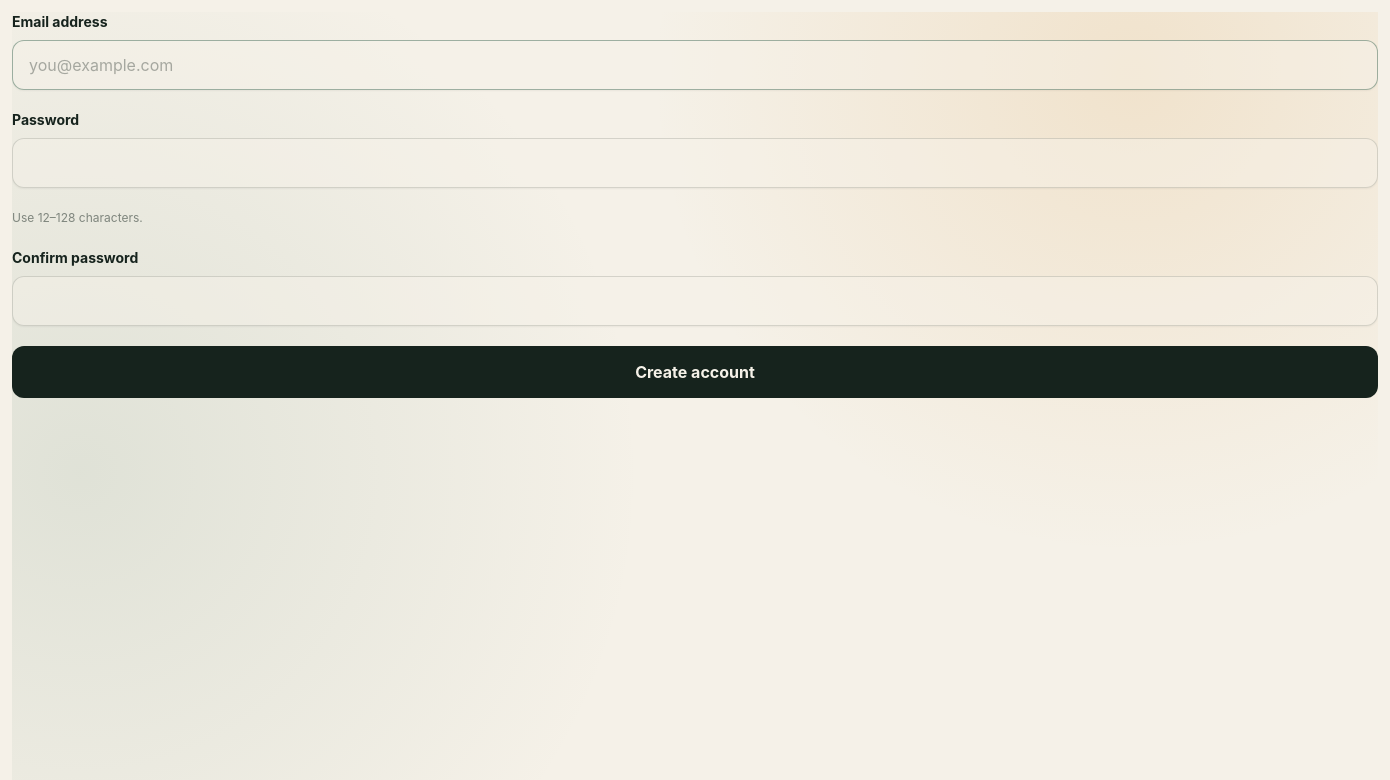
Test: authentication forms › requires matching registration passwords
This screenshot has width=1390, height=780.
Type "candidate@example.com" into the field labelled "Email address". click: (695, 65)
box: [12,40,1378,90]
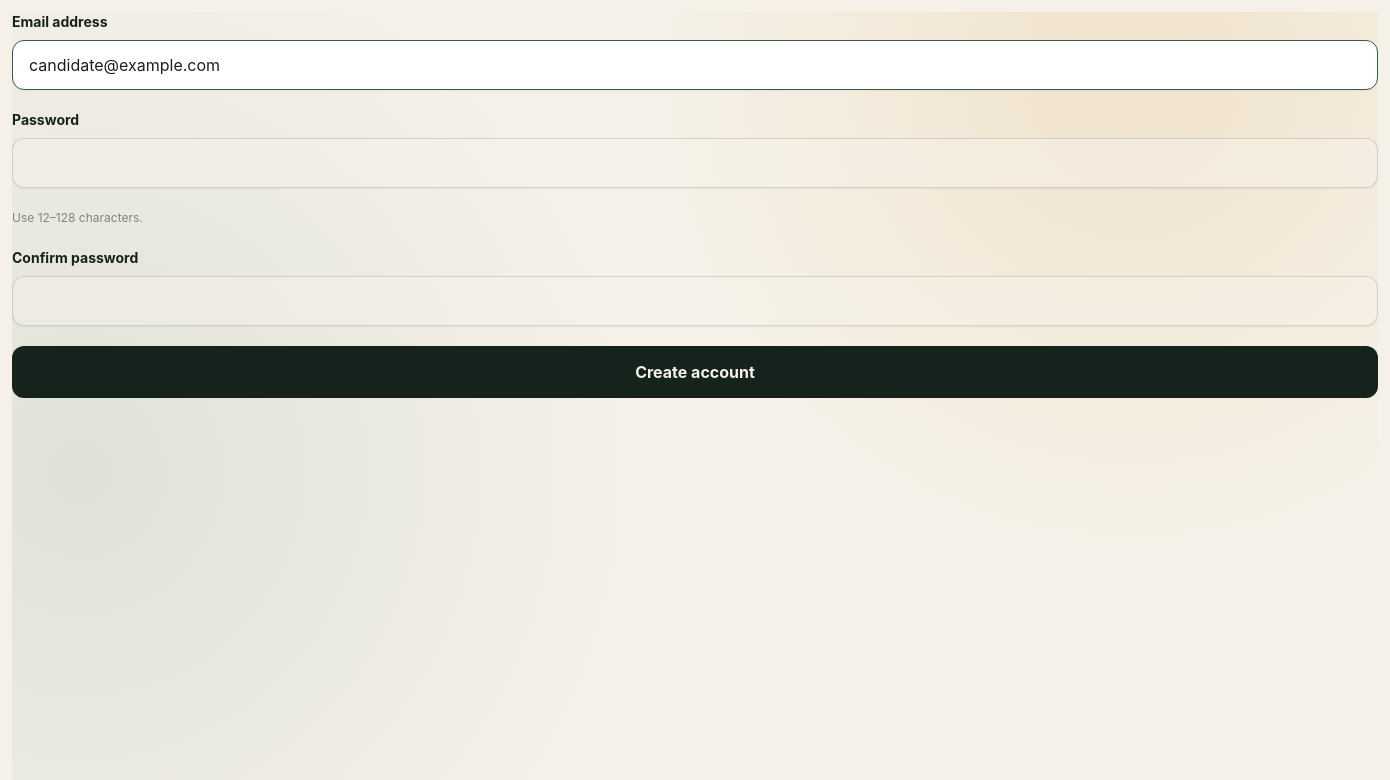
Type "a-secure-password" into the password field labelled "Password". click: (695, 163)
box: [12,138,1378,188]
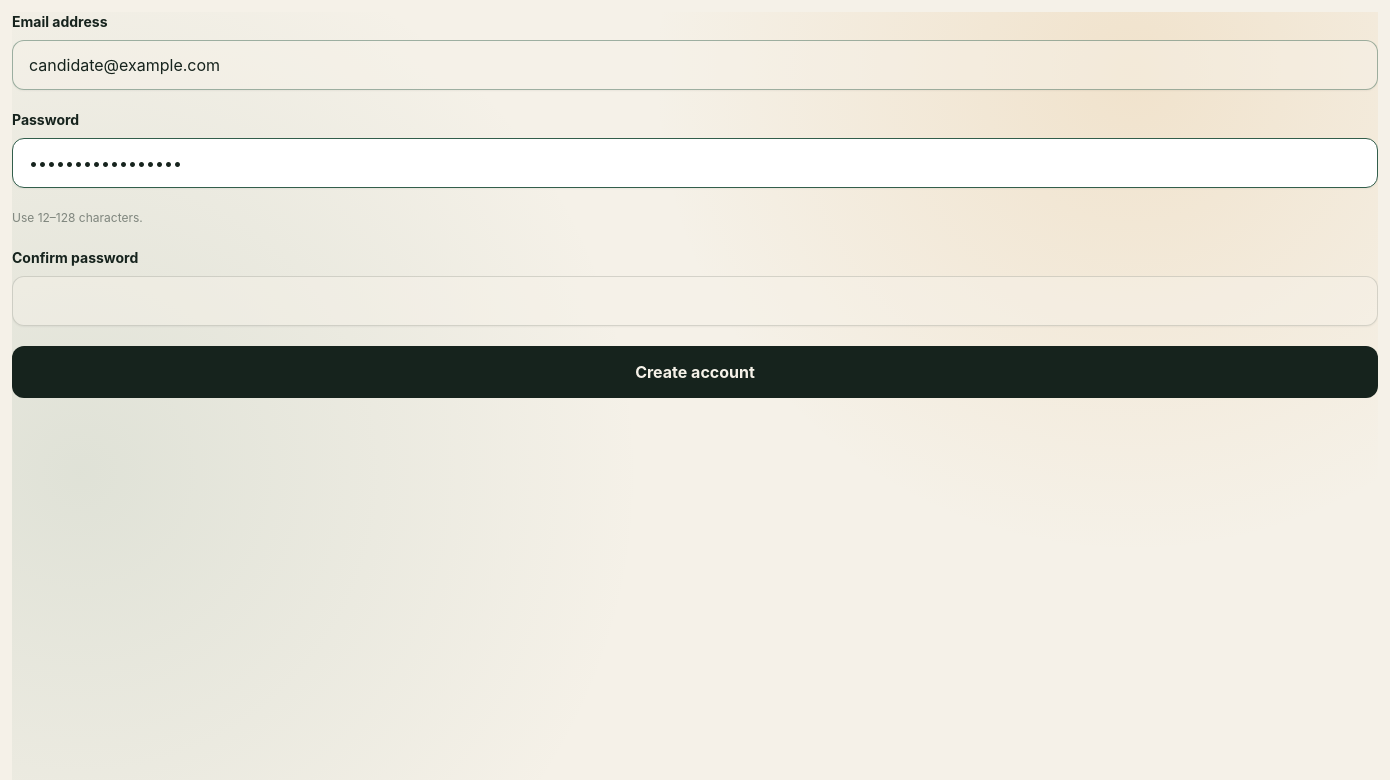
Type "a-different-password" into the password field labelled "Confirm password". click: (695, 301)
box: [12,276,1378,326]
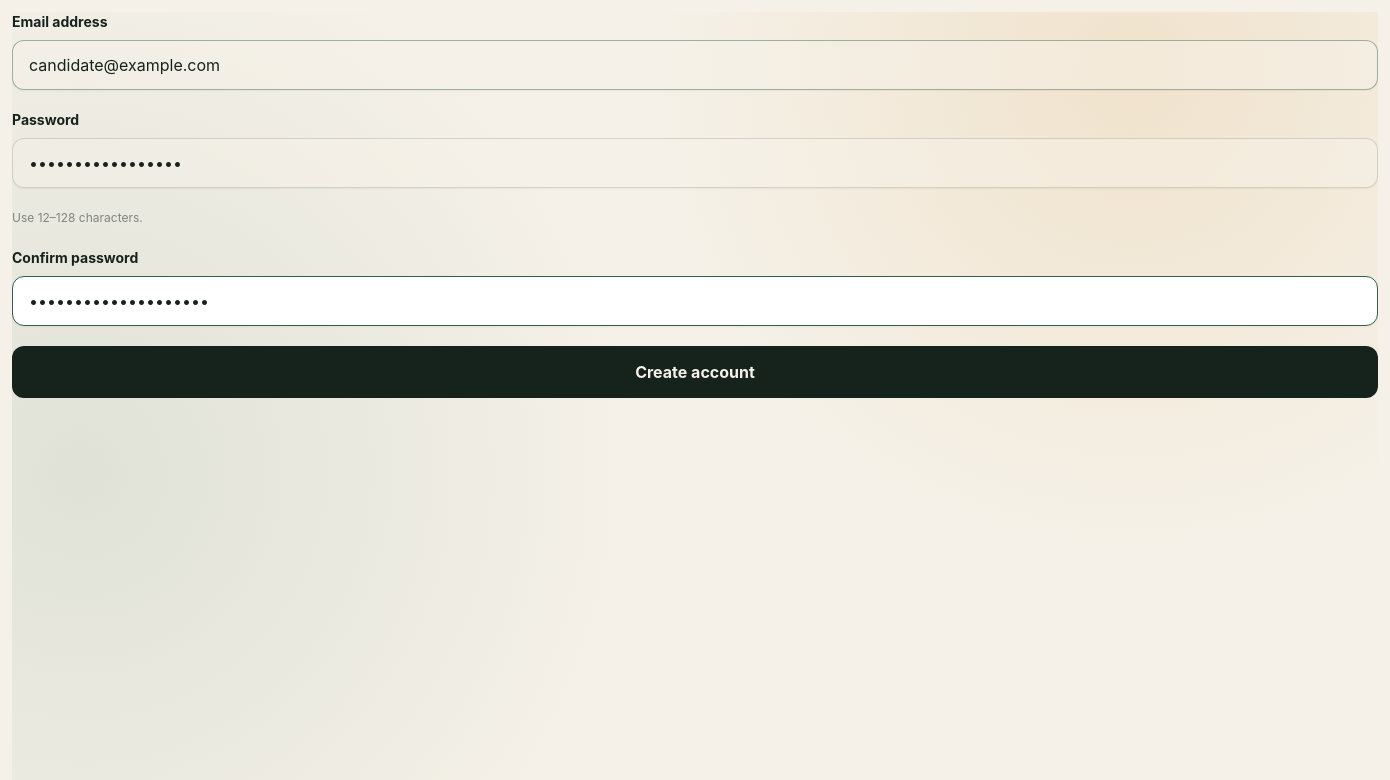
Click the button "Create account". click: click(695, 372)
box: [12,346,1378,398]
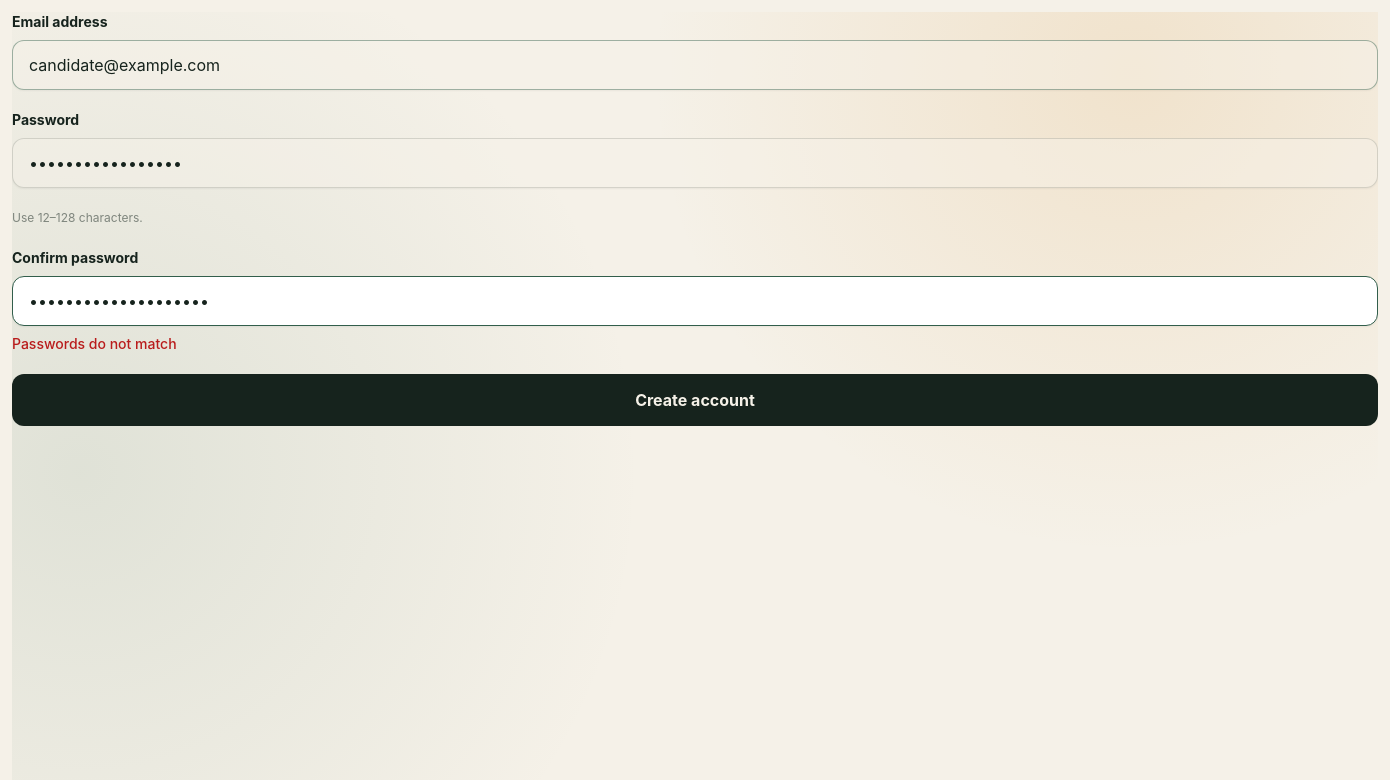
Expected: the text "Passwords do not match" is shown, [12,335,177,352]
